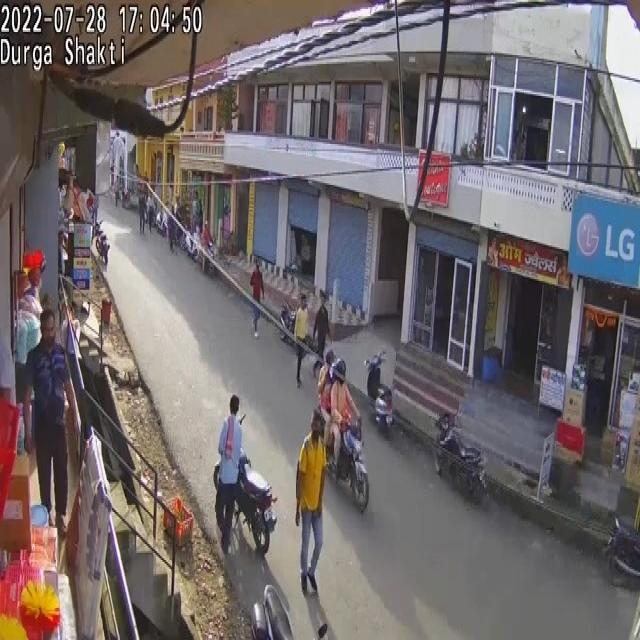non-fight: (24, 308, 79, 536), (295, 408, 327, 595), (217, 393, 244, 547), (327, 353, 361, 464), (293, 294, 310, 385), (312, 296, 330, 372), (250, 262, 265, 338), (167, 207, 177, 254), (192, 192, 202, 234), (138, 193, 147, 235), (145, 196, 153, 233), (114, 181, 120, 207)
